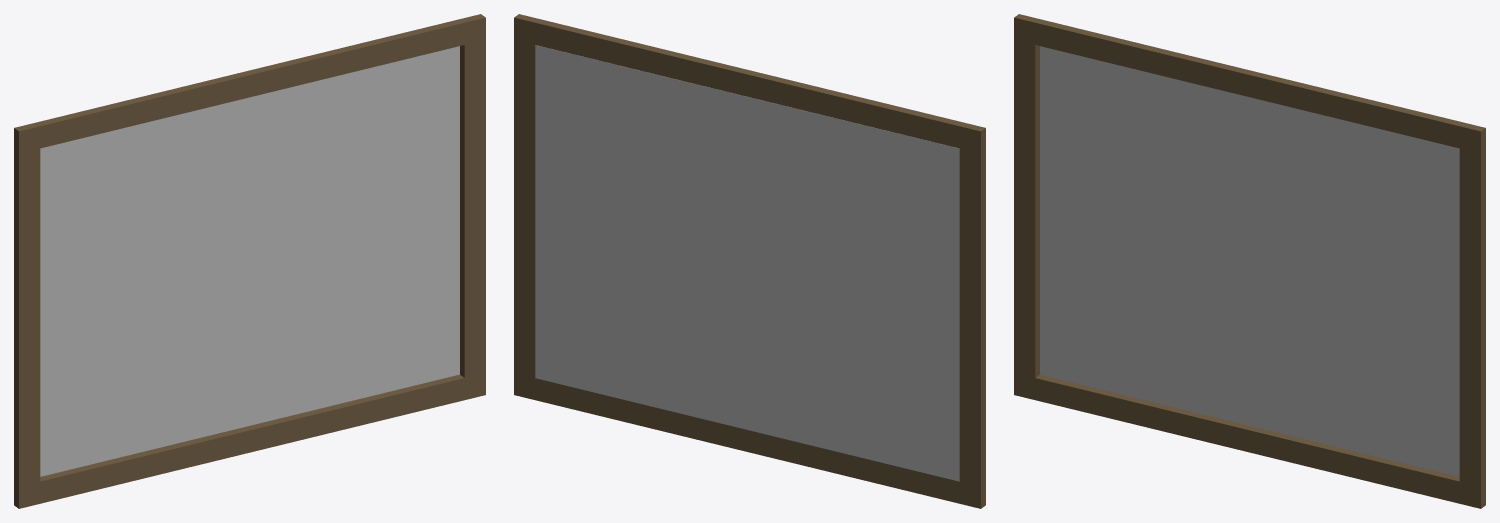
The model's file is frame_landscape.glb.
3 views of the same model, side by side, from view 1: azimuth 30°, elevation 25°; view 2: azimuth 150°, elevation 25°; view 3: azimuth 330°, elevation 25° (orthographic).
Visible parts, largest first — view 1: world; view 2: world; view 3: world.
Part boxes in pixels (left/top/right/bottom): world: left=14, top=14, right=485, bottom=508; world: left=514, top=14, right=985, bottom=508; world: left=1014, top=14, right=1485, bottom=508.
Bounding box in the file's own units: 1.1 × 0.85 × 0.0205.
